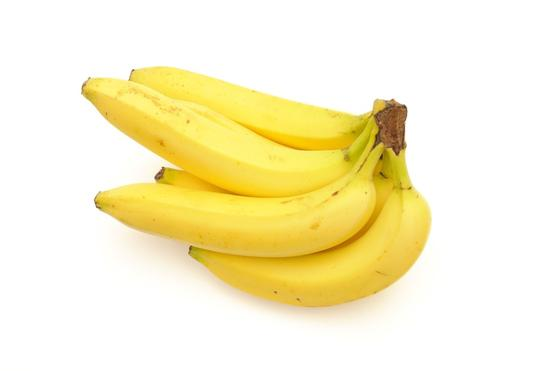banana: (74, 66, 398, 204), (86, 136, 384, 261), (177, 187, 453, 309)
